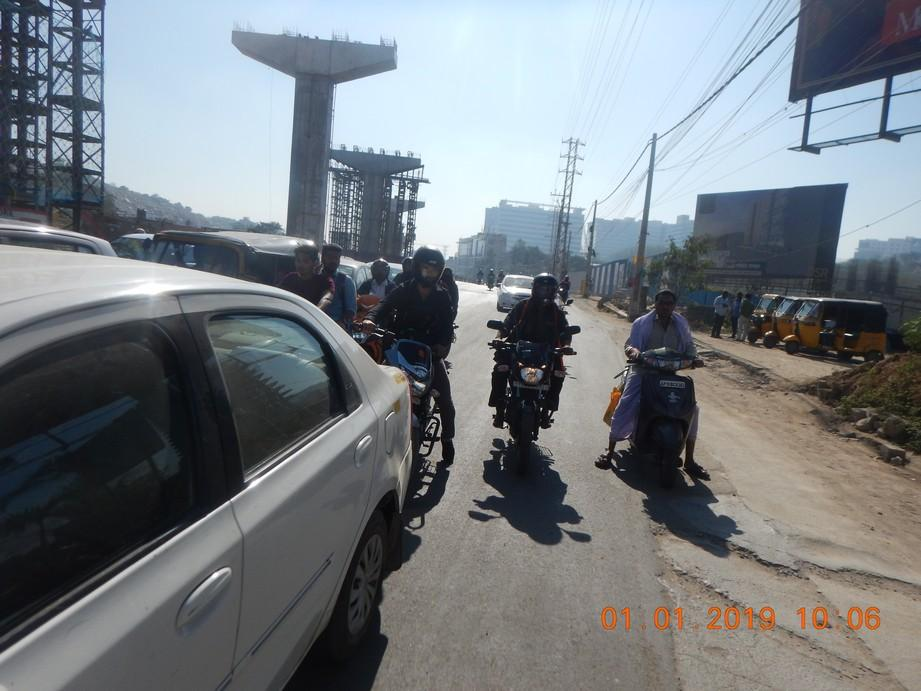plate: (658, 379, 687, 390)
